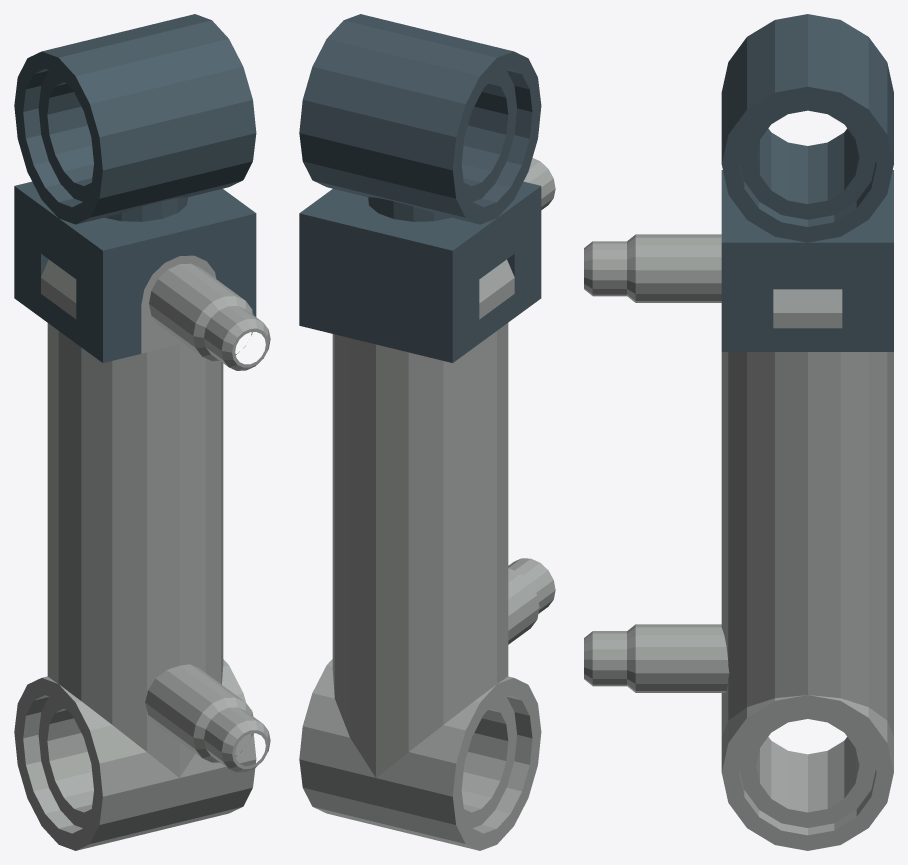
The picture shows the model from 3 angles, left to right: view 1: azimuth 30°, elevation 25°; view 2: azimuth 150°, elevation 25°; view 3: azimuth 270°, elevation 25°; orthographic projection. The views are drawn at different scales.
Parts seen in each view (by area): view 1: world; view 2: world; view 3: world.
Part boxes in pixels (x1,y1,x2,y2): world: [14, 14, 270, 850]; world: [299, 14, 555, 850]; world: [584, 14, 893, 850].
Bounding box in the file's own units: 0.008 × 0.0392 × 0.0144.
